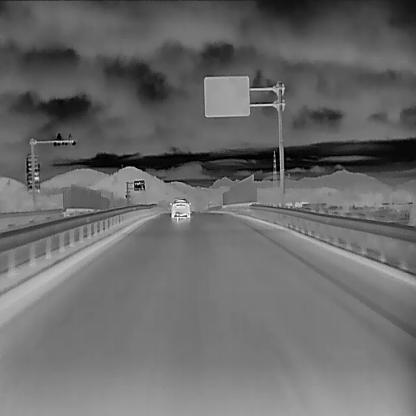car: (168, 196, 191, 218)
